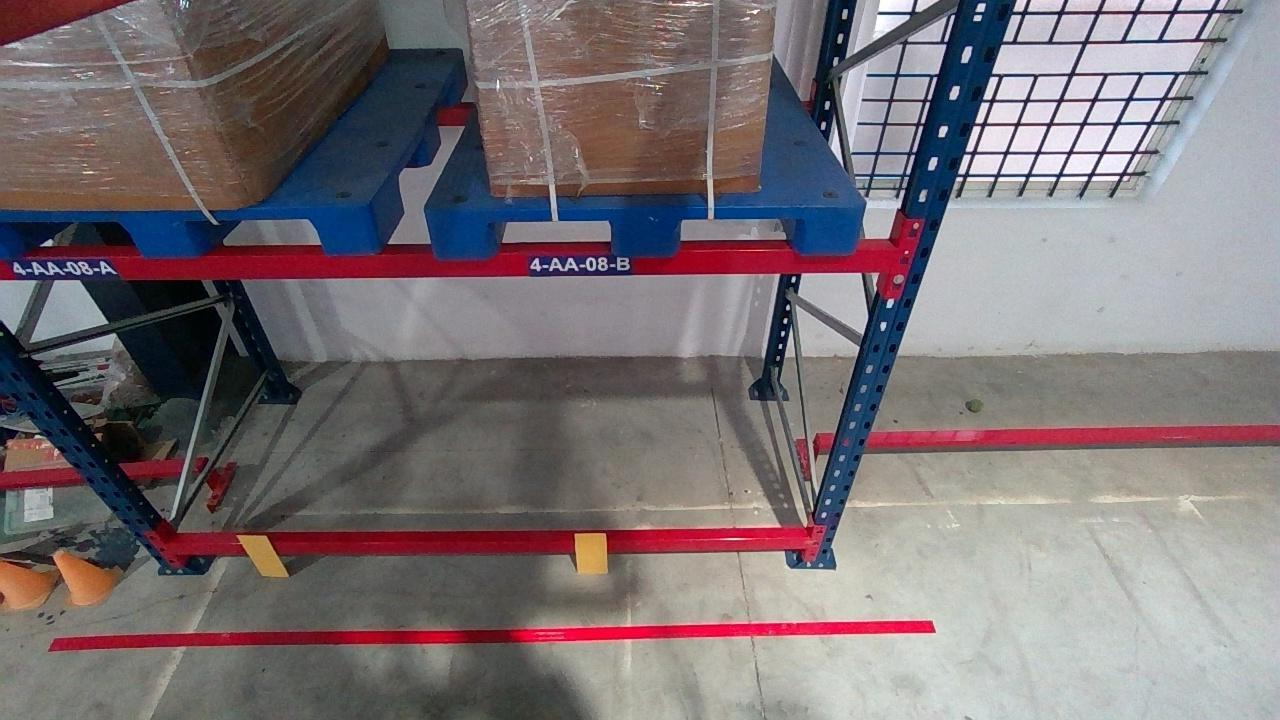h_rack: (1, 245, 900, 278), (163, 535, 811, 555)
orange_strip: (235, 534, 290, 576), (573, 533, 607, 573)
red_line: (41, 619, 935, 646)
small_pallet: (432, 204, 865, 254), (1, 207, 380, 258)
